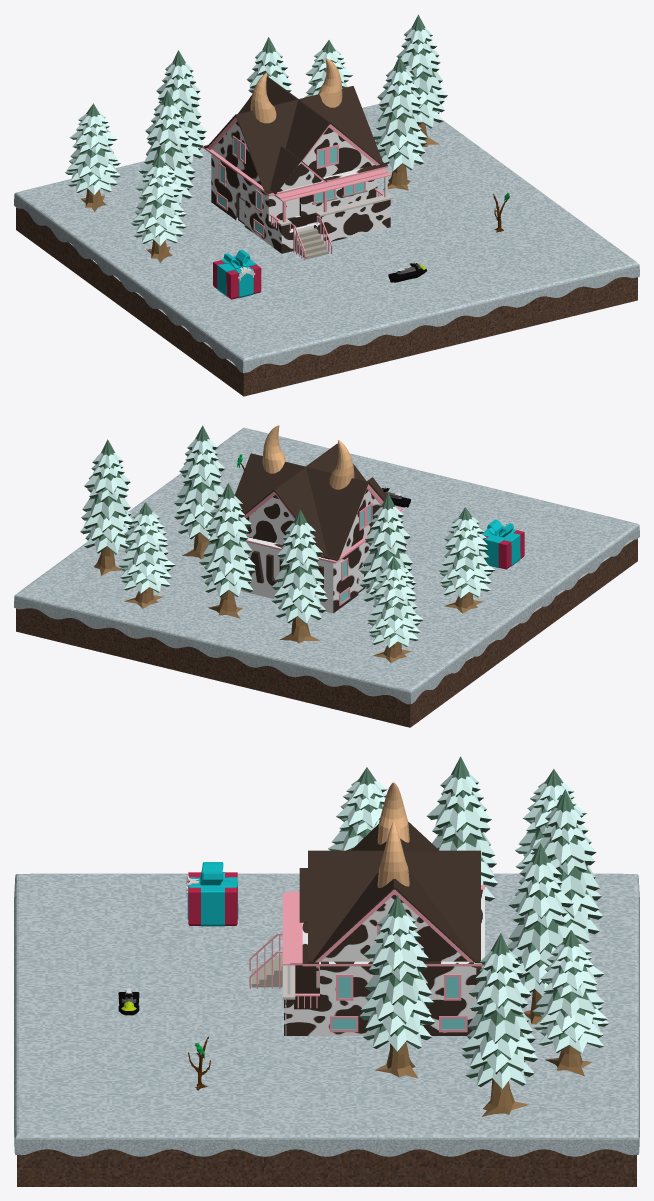
3 renders of one model, top to bottom at view 1: azimuth 30°, elevation 25°; view 2: azimuth 150°, elevation 25°; view 3: azimuth 270°, elevation 25°, orthographic. The views are drawn at different scales.
Parts seen in each view (by area): view 1: Cube.003, Cube.1242, OBJRANDOM_GIANT_PRESENT; view 2: Cube.003, Cube.1242, OBJRANDOM_GIANT_PRESENT; view 3: Cube.003, Cube.1242, OBJRANDOM_GIANT_PRESENT.
Boxes of the visible parts, bbox=[...] form: Cube.003: bbox=[14, 14, 639, 396]; Cube.1242: bbox=[202, 58, 393, 260]; OBJRANDOM_GIANT_PRESENT: bbox=[213, 249, 261, 299]; Cube.003: bbox=[14, 425, 639, 727]; Cube.1242: bbox=[235, 425, 406, 613]; OBJRANDOM_GIANT_PRESENT: bbox=[482, 519, 524, 569]; Cube.003: bbox=[14, 756, 639, 1186]; Cube.1242: bbox=[249, 782, 484, 1035]; OBJRANDOM_GIANT_PRESENT: bbox=[186, 862, 238, 926].
Bounding box in the file's own units: 4040 × 1858 × 4040.
32 materials, 3 textured.
